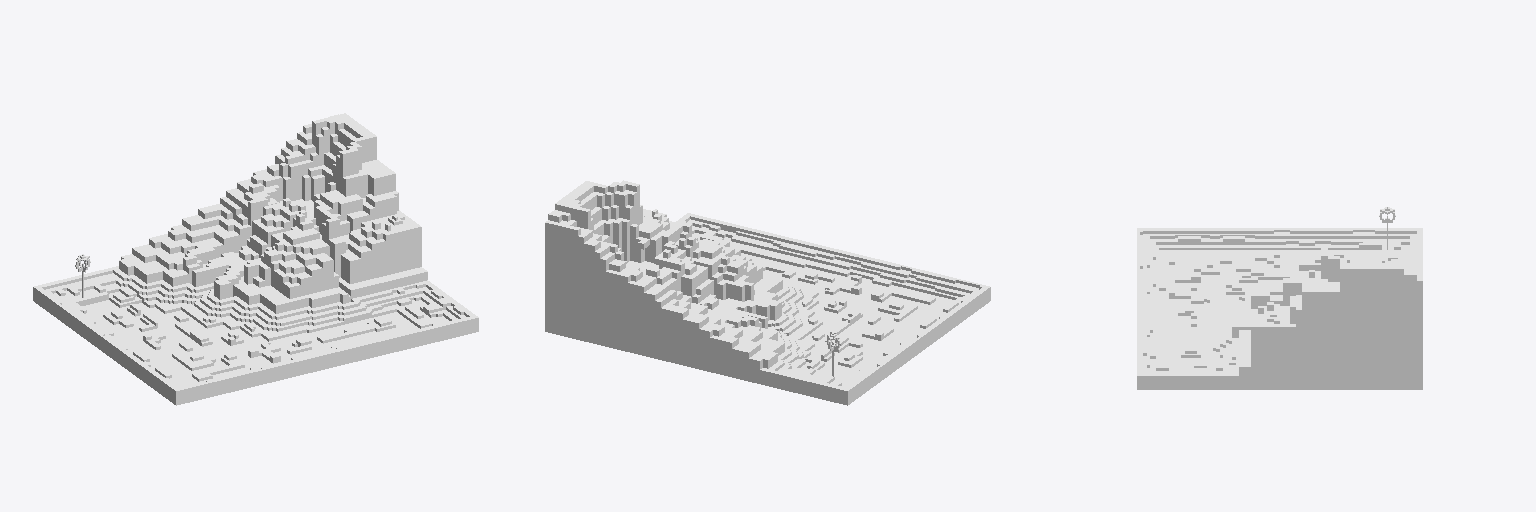
Rendered from lamp.obj.
The picture shows the model from 3 angles: view 1: azimuth 30°, elevation 25°; view 2: azimuth 150°, elevation 25°; view 3: azimuth 270°, elevation 25°; orthographic projection.
Parts seen in each view (by area): view 1: FinalVolcan_2; view 2: FinalVolcan_2; view 3: FinalVolcan_2.
Part boxes in pixels (x1,y1,x2,y2): FinalVolcan_2: (33,113,478,405); FinalVolcan_2: (545,180,990,405); FinalVolcan_2: (1137,228,1422,389).
Size of the model in its own units: 110 by 42 by 90.